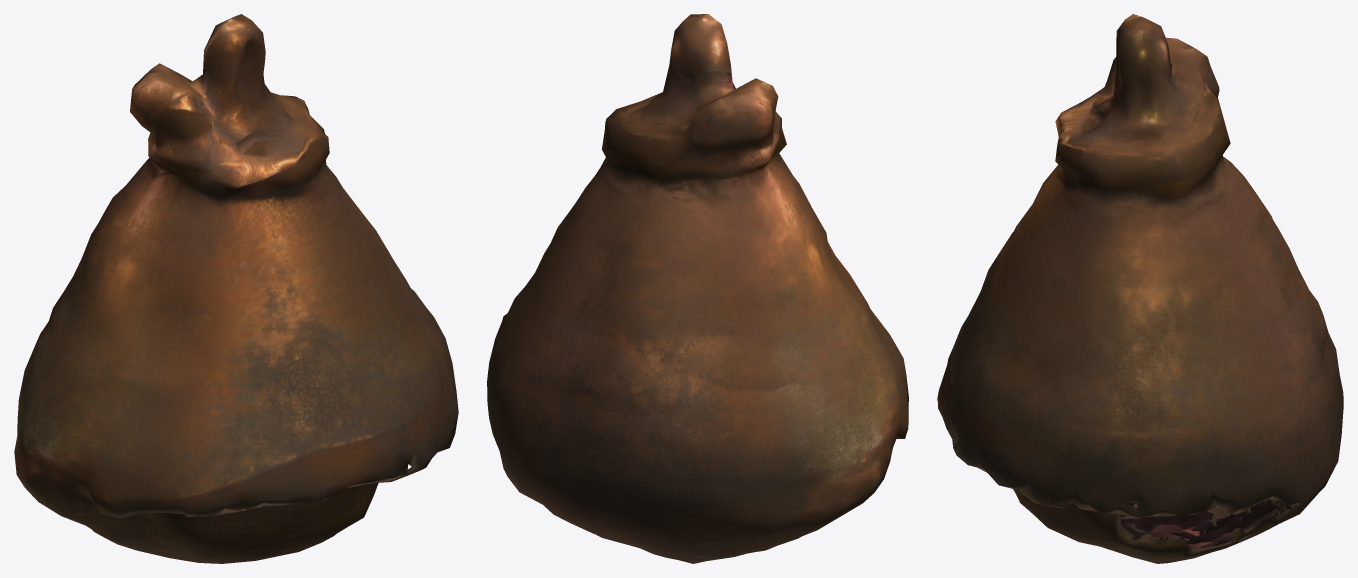
File: Pendiente.glb
3 views of the same model, side by side, from view 1: azimuth 30°, elevation 25°; view 2: azimuth 150°, elevation 25°; view 3: azimuth 270°, elevation 25° (orthographic). The views are drawn at different scales.
Bounding box in the file's own units: 1.52 × 1.99 × 1.41.
Materials: 1 (1 with a texture image).
